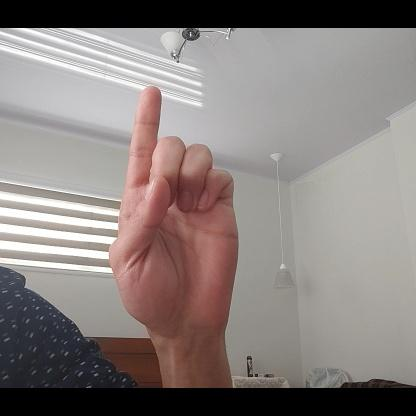D: (110, 86, 240, 330)
